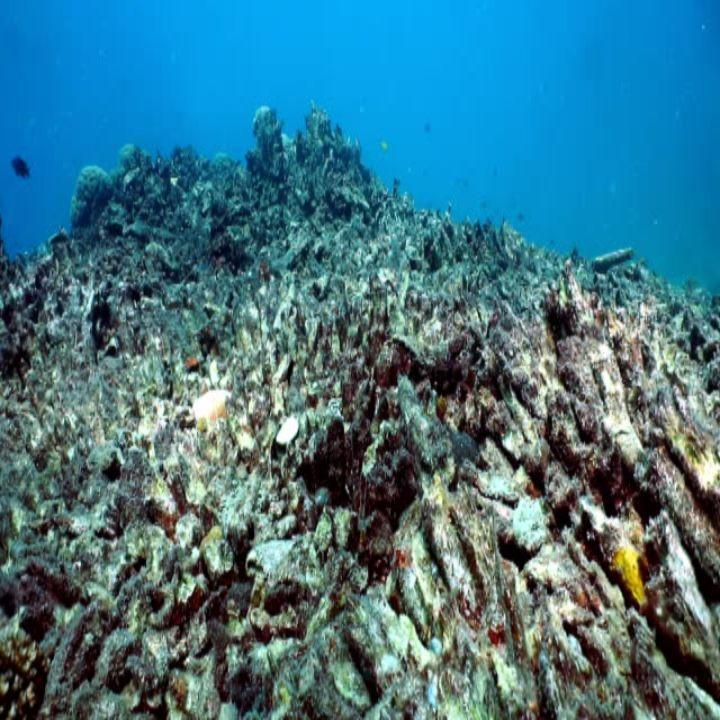Dead Coral: (38, 215, 668, 696)
